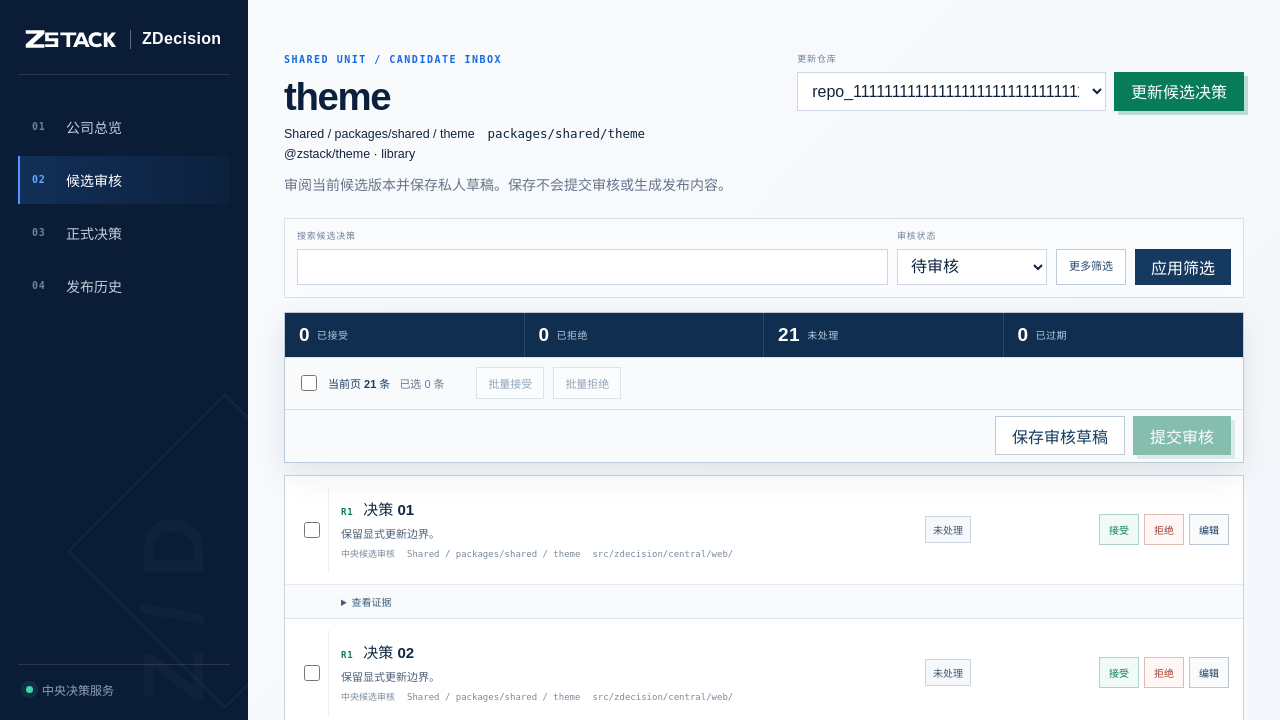
Test: blocks a 21-row batch instead of truncating it
The image size is (1280, 720).
Expected: the heading "theme" is shown, 284,75 -> 390,118
What coordinates should you click on to do the following:
click the checkbox named "选择当前页 21 条"
I would click on:
 (309, 383)
Its box is 301,375 -> 317,391.
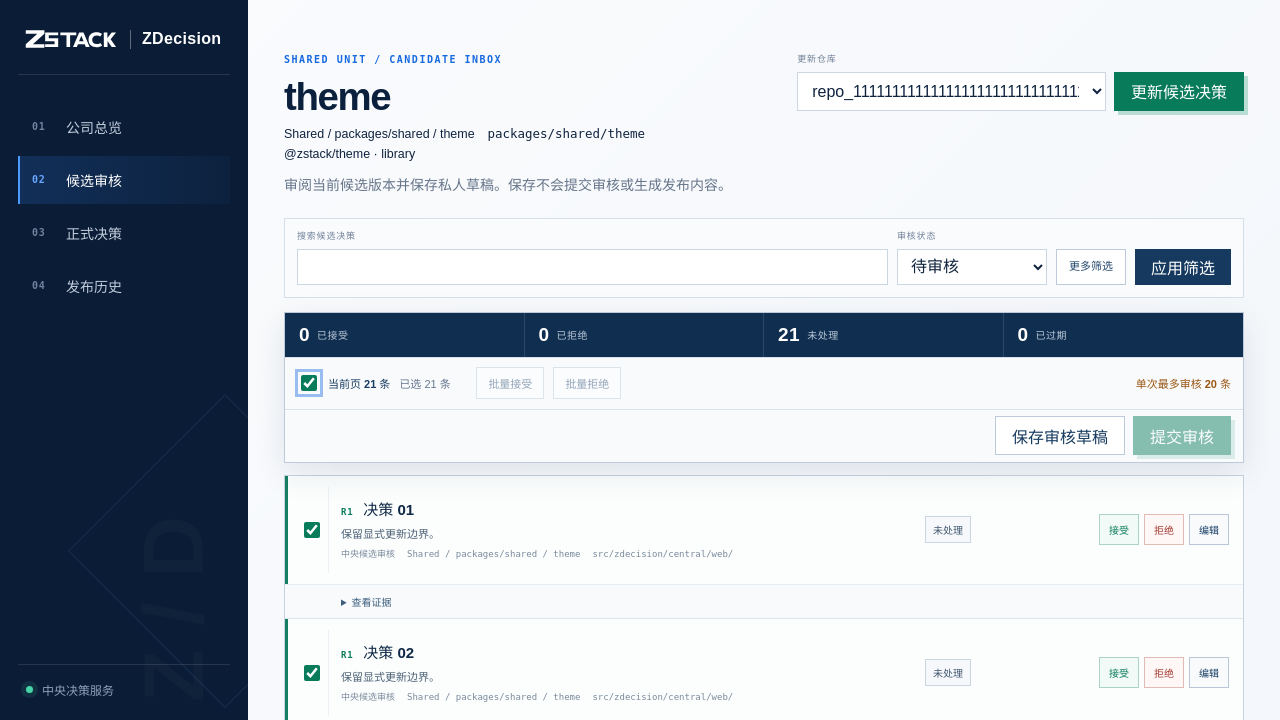
Expected: the button "批量接受" is disabled, 476,367 -> 544,399
Expected: the text "单次最多审核 20 条" is shown, 1136,375 -> 1231,391
